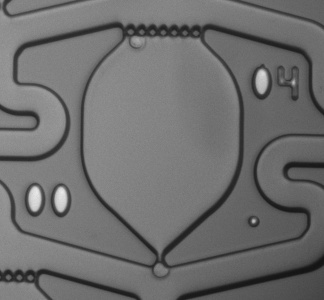AptNum: (246, 59, 306, 107)
Marker: (243, 212, 265, 233)
StNum: (17, 175, 81, 226)
Trap: (133, 257, 190, 300)
